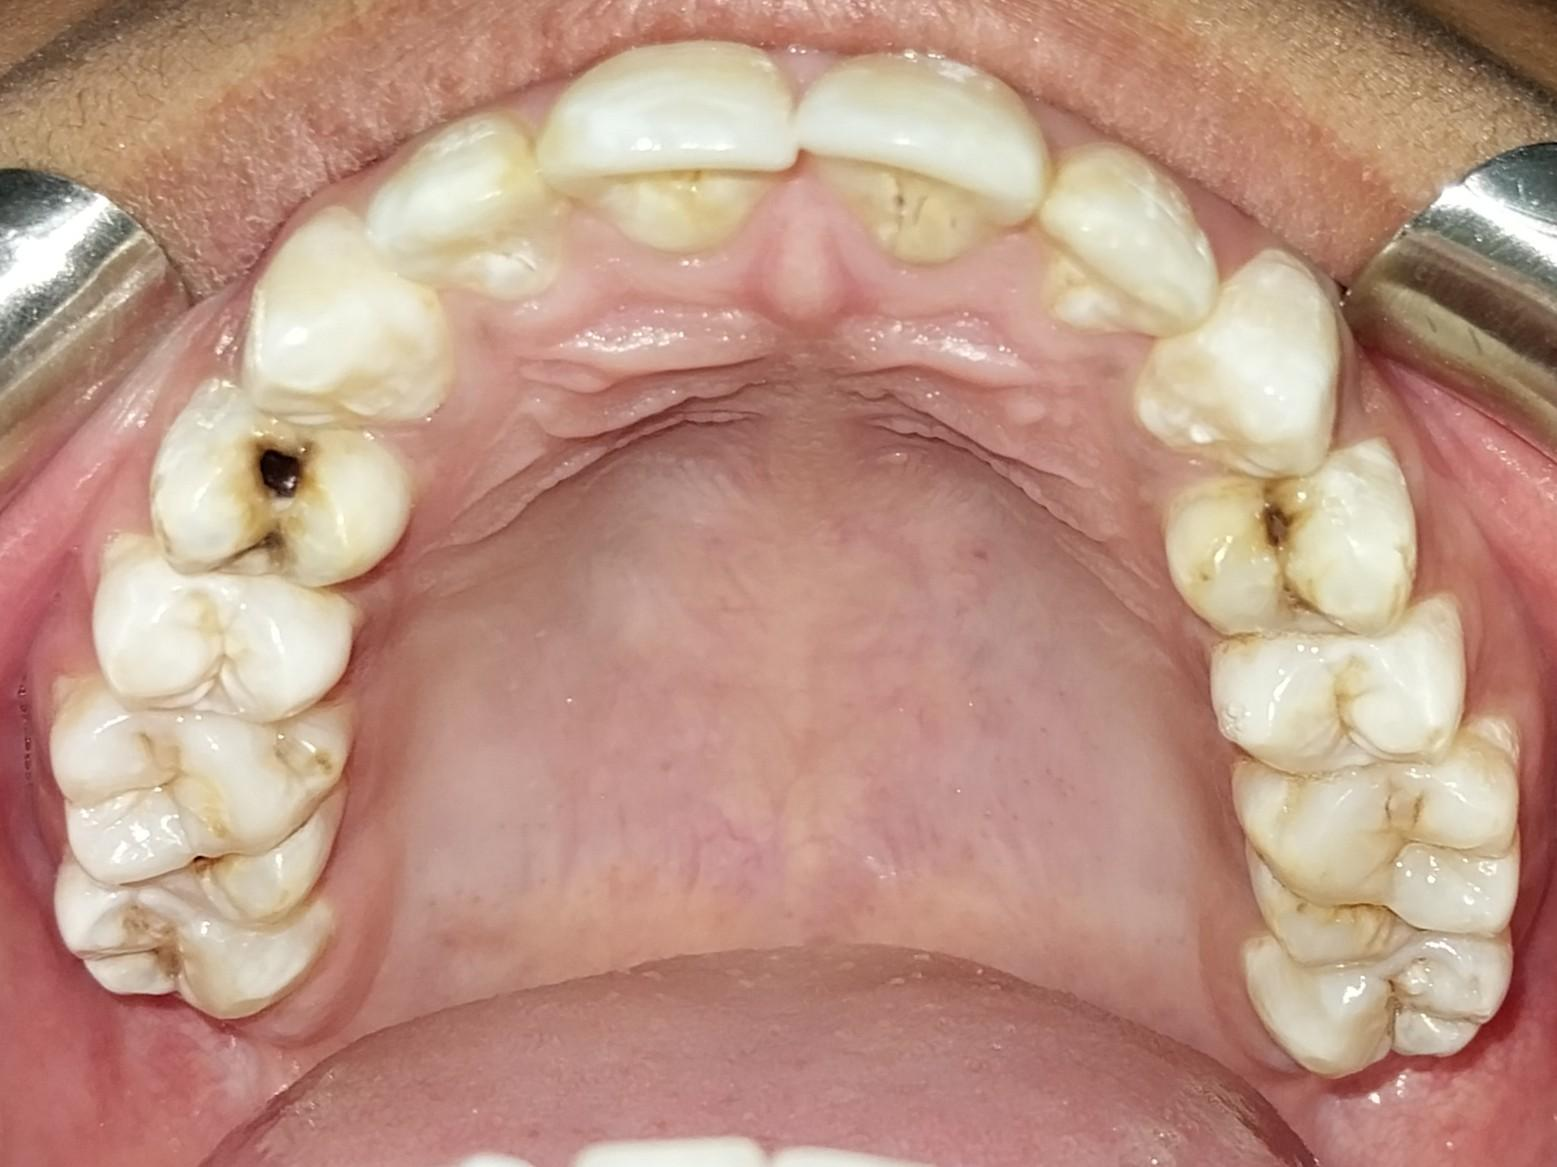D: (47, 675, 354, 930), (147, 391, 413, 591), (1161, 441, 1419, 633), (48, 867, 332, 1025), (1236, 943, 1516, 1084)
